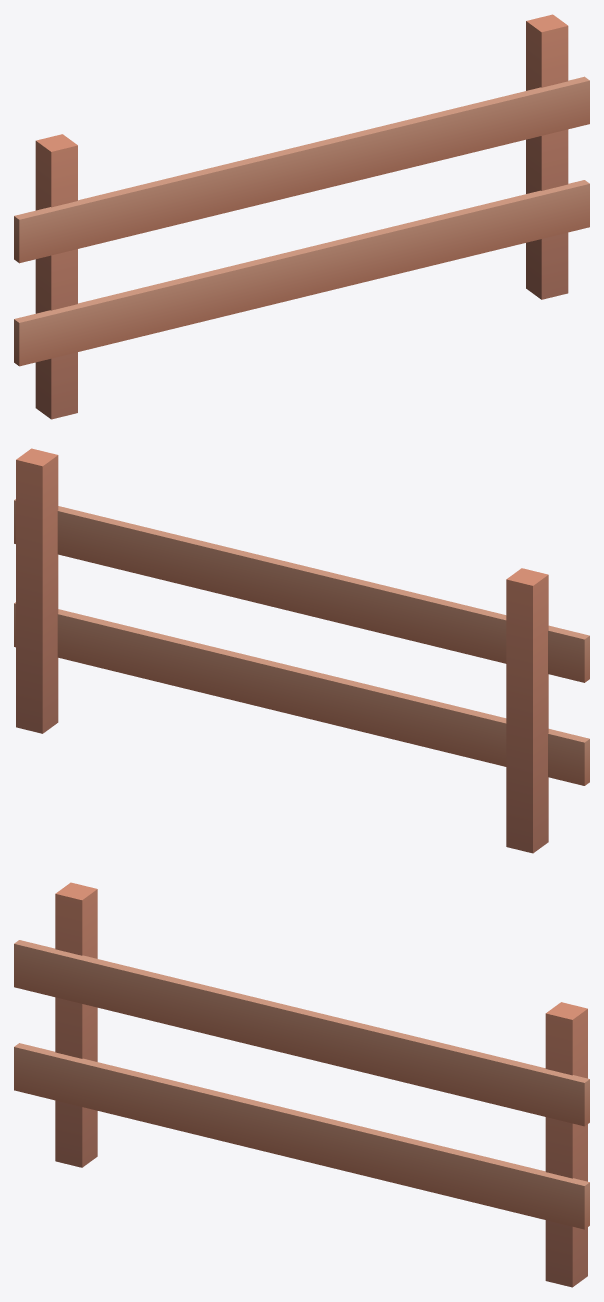
File: [OBJ]Cerca.fbx
The picture shows the model from 3 angles, top to bottom: view 1: azimuth 30°, elevation 25°; view 2: azimuth 150°, elevation 25°; view 3: azimuth 330°, elevation 25°; orthographic projection.
Parts seen in each view (by area): view 1: [OBJ]Cerca; view 2: [OBJ]Cerca; view 3: [OBJ]Cerca.
Boxes of the visible parts, x1,y1,x2,y2 form: [OBJ]Cerca: [14, 14, 589, 419]; [OBJ]Cerca: [14, 448, 589, 853]; [OBJ]Cerca: [14, 882, 589, 1287].
Bounding box in the file's own units: 162 × 72.6 × 9.93.
